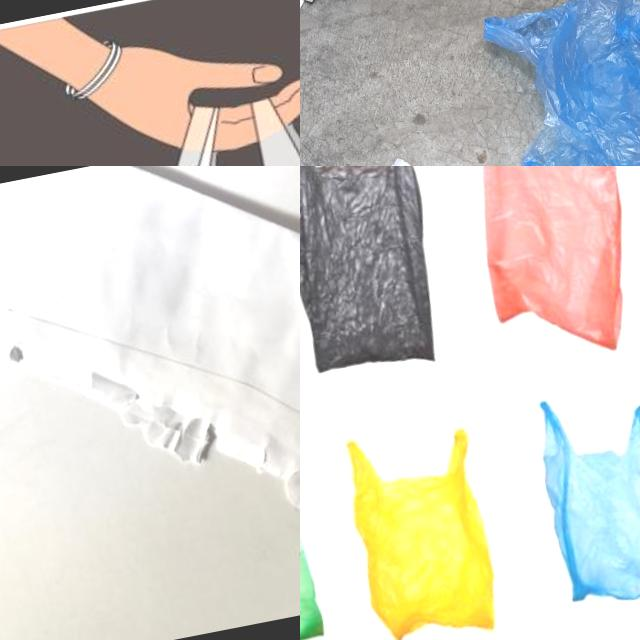papel: (0, 166, 300, 640)
sacola plástica: (310, 375, 518, 640), (436, 166, 640, 373), (0, 36, 300, 166), (507, 356, 640, 632), (300, 166, 462, 389), (481, 0, 640, 166), (301, 126, 610, 166)
